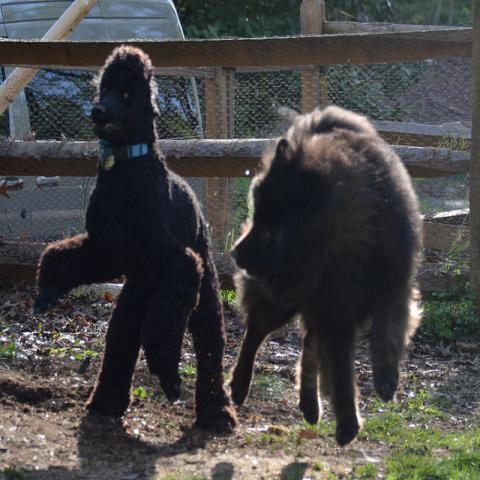truck: (0, 0, 207, 272)
